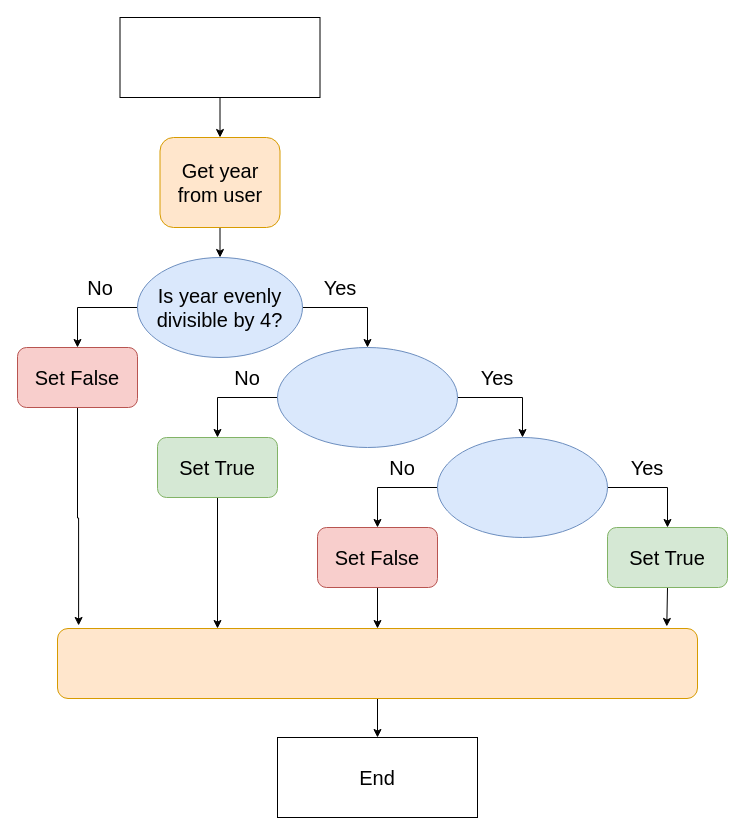
Image size: 745x835. Some labels were removed from this diagram. Each missing label, with the box of its shape:
Is year evenly divisible by 100?: (276, 346, 458, 448)
Is year evenly divisible by 400?: (436, 436, 608, 538)
Print answer: (56, 628, 698, 698)
Start: (119, 16, 320, 98)
